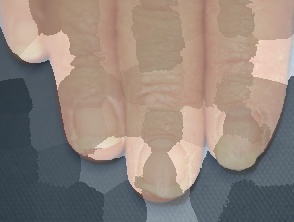Nail_psoriasis: (213, 139, 269, 169)
